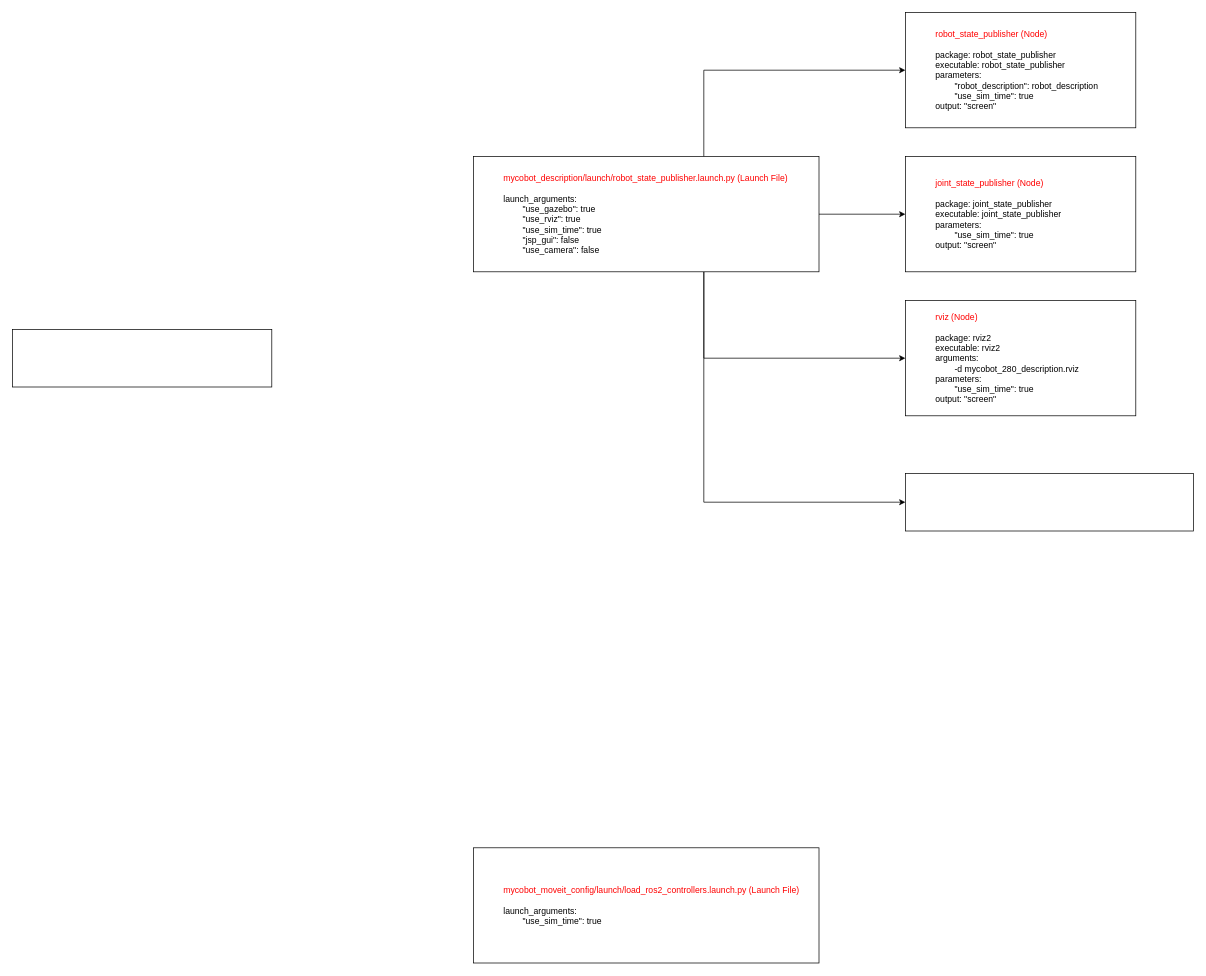
Image size: 1206x976. Some labels were removed from this diagram. Here are the shapes that lost their labels. From the top down, the box of each, then its label:
(12, 329, 272, 387): mycobot_gazebo/launch/mycobot.gazebo.launch.py (Launch File)
(905, 473, 1193, 531): mycobot_moveit_config/config/mycobot_280/ ros2_controllers.yaml (File)
